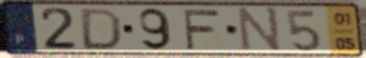2: (39, 6, 80, 51)
5: (284, 8, 324, 53)
9: (137, 7, 174, 52)
D: (79, 7, 124, 51)
F: (180, 8, 222, 51)
N: (238, 6, 283, 54)
